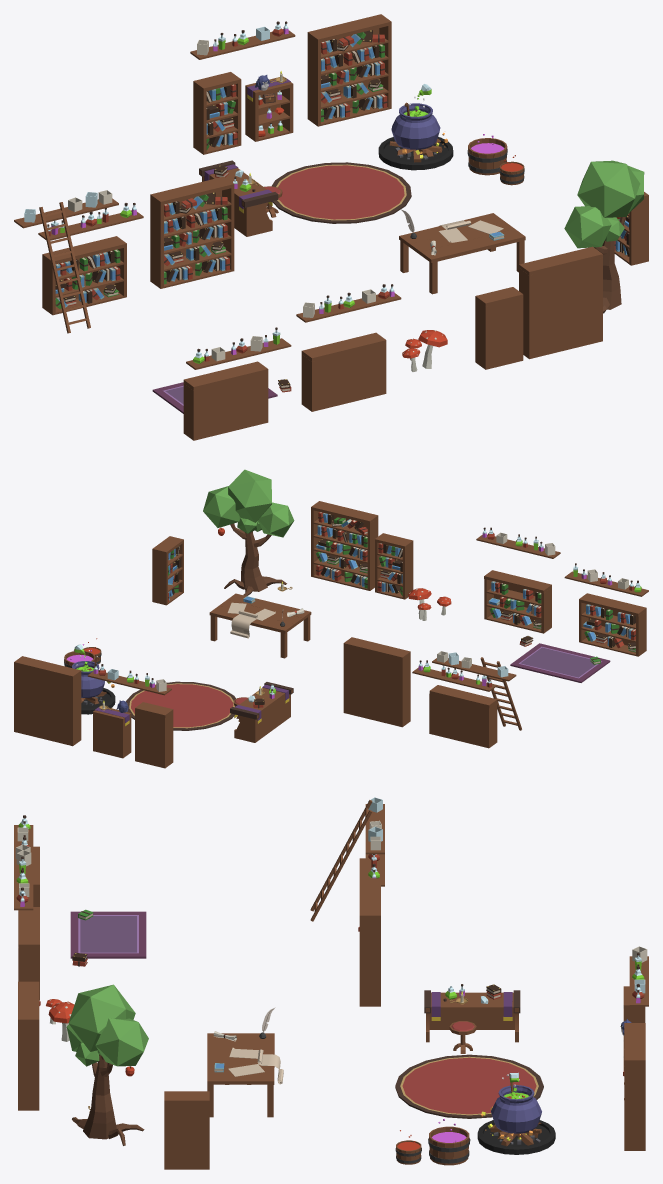
Rendered from Room_Wizard_Assets.fbx.
3 views of the same model, one above another, from view 1: azimuth 30°, elevation 25°; view 2: azimuth 150°, elevation 25°; view 3: azimuth 270°, elevation 25° (orthographic). The views are drawn at different scales.
Visible parts, largest first — view 1: BG_Book_Shelf_Connect (×6), cupboard (×4), floor_rug, tree, Shelf_BG_02_Geo (×4), Cauldron, ladder, desk_base, polySurface187, cauldron_perimeter1, polySurface182, polySurface185 (+3 smaller); view 2: BG_Book_Shelf_Connect (×6), cupboard (×4), tree, floor_rug, floor_rug1, Shelf_BG_02_Geo (×4), desk_base, ladder, polySurface185, Cauldron, polySurface187, Shelf_BG_01_Geo (+2 smaller); view 3: BG_Book_Shelf_Connect (×4), tree, floor_rug, cupboard (×2), floor_rug1, desk_base, Cauldron, cauldron_perimeter1, Shelf_BG_02_Geo (×2), polySurface182, ladder, polySurface187 (+2 smaller).
Boxes of the visible parts, x1,y1,x2,y2 form: BG_Book_Shelf_Connect (×6): (42, 14, 602, 440); cupboard (×4): (193, 72, 648, 369); floor_rug: (272, 162, 411, 223); tree: (564, 160, 644, 313); Shelf_BG_02_Geo (×4): (38, 29, 401, 369); Cauldron: (391, 103, 440, 149); ladder: (39, 202, 90, 333); desk_base: (202, 168, 272, 236); polySurface187: (420, 229, 525, 262); cauldron_perimeter1: (378, 137, 453, 170); polySurface182: (467, 138, 507, 175); polySurface185: (399, 213, 503, 247); BG_Book_Shelf_Connect (×6): (14, 501, 646, 748); cupboard (×4): (93, 533, 413, 768); tree: (203, 469, 294, 595); floor_rug: (126, 681, 235, 730); floor_rug1: (510, 643, 610, 682); Shelf_BG_02_Geo (×4): (87, 534, 648, 695); desk_base: (234, 688, 290, 742); ladder: (480, 657, 521, 730); polySurface185: (209, 606, 294, 633); Cauldron: (72, 661, 104, 697); polySurface187: (227, 593, 311, 620); Shelf_BG_01_Geo: (432, 658, 516, 681); BG_Book_Shelf_Connect (×4): (18, 878, 645, 1150); tree: (66, 984, 148, 1145); floor_rug: (395, 1054, 543, 1118); cupboard (×2): (164, 986, 645, 1169); floor_rug1: (70, 911, 146, 958); desk_base: (426, 992, 518, 1042); Cauldron: (491, 1085, 541, 1133); cauldron_perimeter1: (477, 1120, 555, 1154); Shelf_BG_02_Geo (×2): (14, 860, 648, 1006); polySurface182: (428, 1126, 470, 1165); ladder: (310, 800, 372, 921); polySurface187: (207, 1033, 229, 1084).
Size of the model in its own units: 1037 by 270 by 1035.
